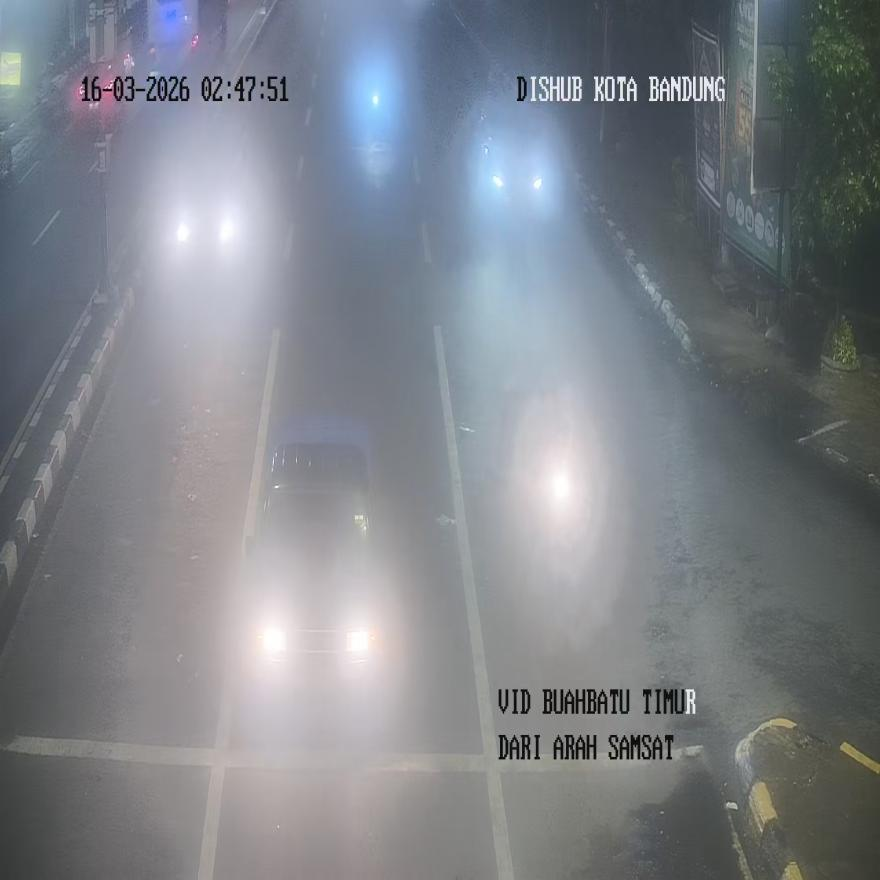Motor: (242, 416, 383, 695)
